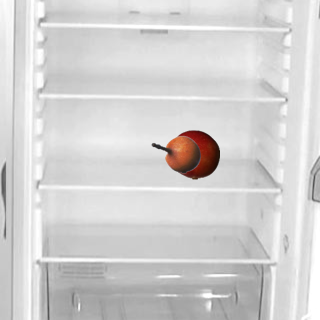Apple Braeburn: (169, 129, 219, 179)
Granadilla: (150, 129, 200, 179)
